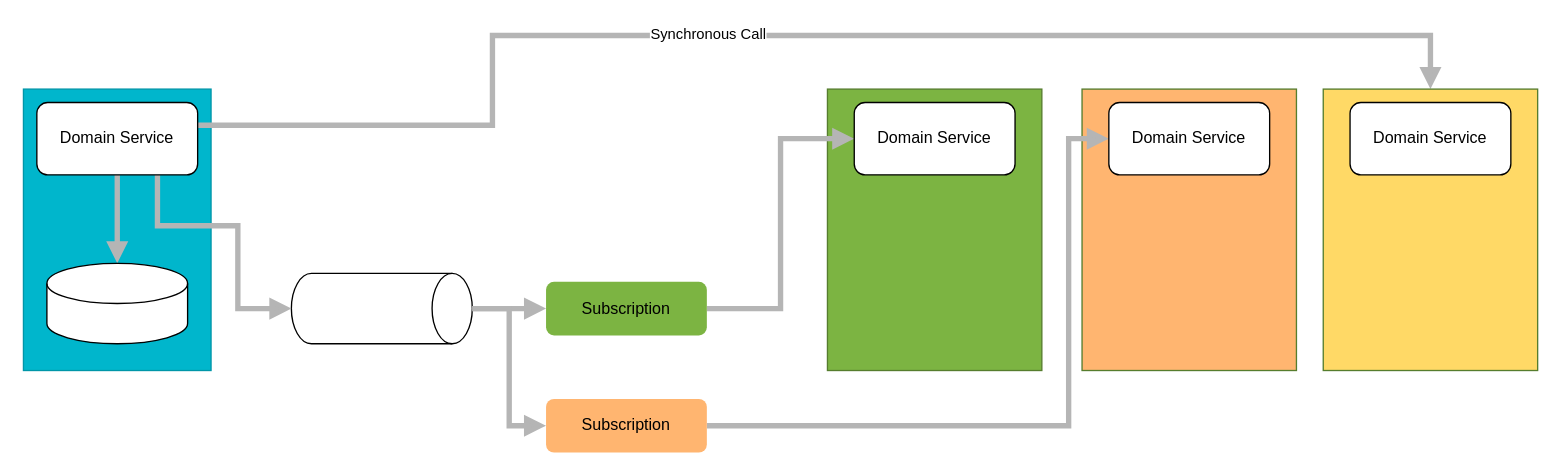
Image size: 1561x476. Some labels were removed from this diagram. The centre of each missing label's shape, as x and y in pixels:
DB: the point at 117,303
Pub/Sub: the point at 381,308
